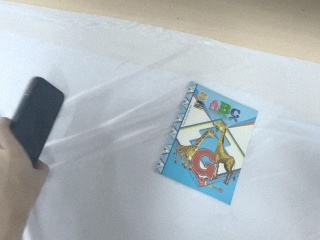book: (155, 81, 259, 205)
phone: (10, 76, 66, 168)
